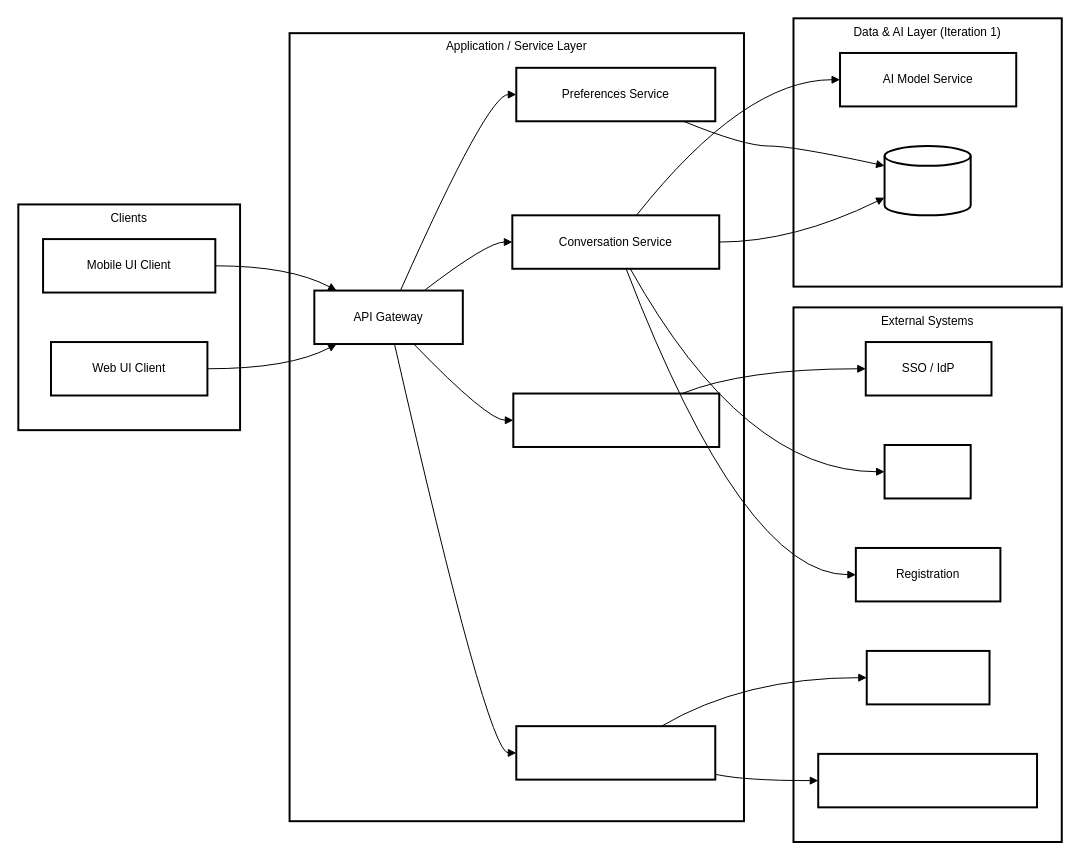
Image size: 1079x859. Some labels were removed from this diagram. Here are the shapes that lost their labels. From the top down, the centre of each, then its label:
At point 927,180: "Databases".
At point 616,419: "Auth & RBAC Service".
At point 927,471: "LMS".
At point 927,677: "Calendar".
At point 615,752: "Notification Service".
At point 927,780: "Email / Push Providers".
